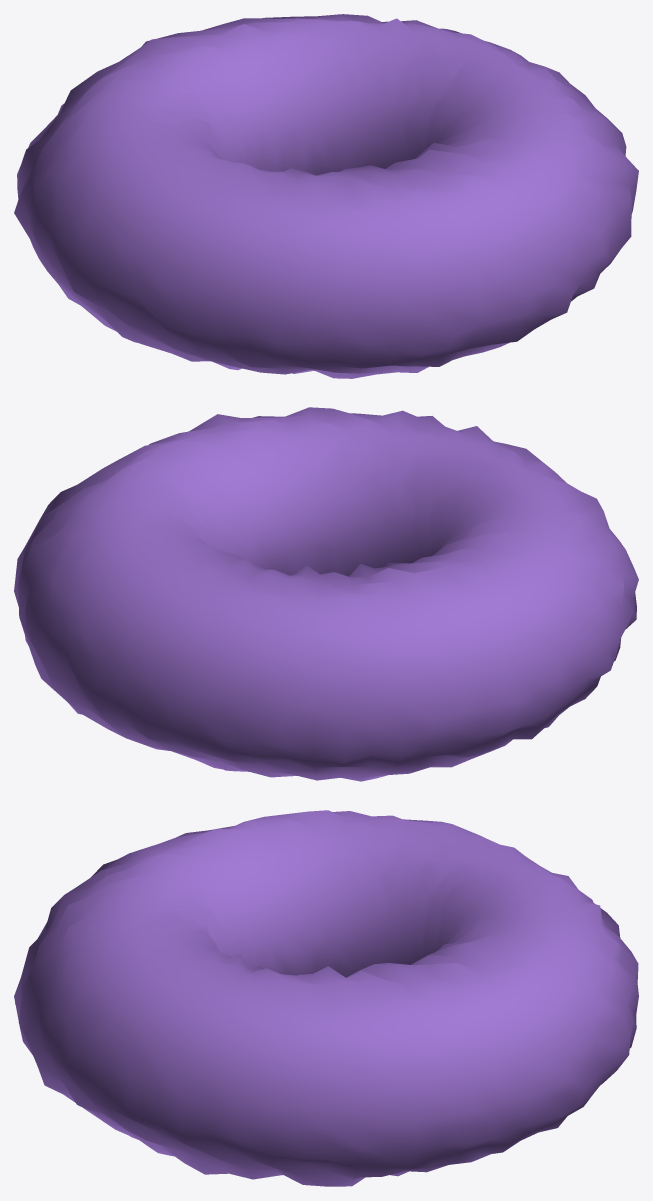
Rendered from cereal_purple.obj.
The picture shows the model from 3 angles, top to bottom: view 1: azimuth 30°, elevation 25°; view 2: azimuth 150°, elevation 25°; view 3: azimuth 270°, elevation 25°; orthographic projection.
Bounding box in the file's own units: 1.55 × 0.5578 × 1.55.
